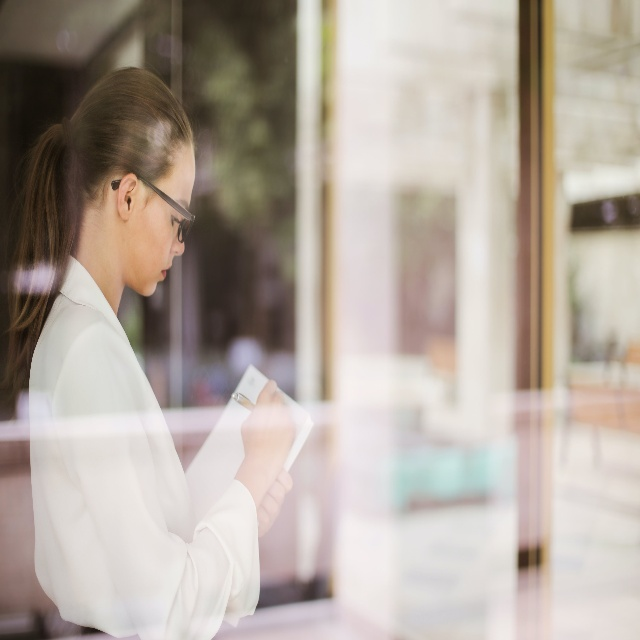Gafas: (111, 173, 196, 245)
Sin_guantes: (240, 380, 295, 487), (257, 466, 294, 537)
